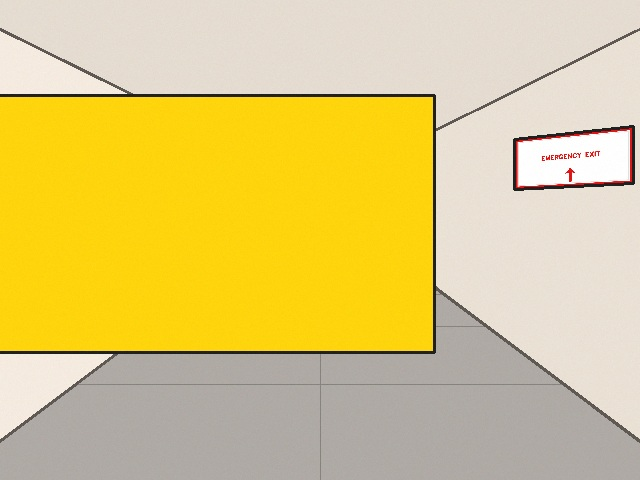charging_station: (82, 111, 201, 309)
directional_sign: (514, 126, 633, 189)
forklift: (0, 95, 434, 352)
hospital_bed: (322, 201, 434, 278)
